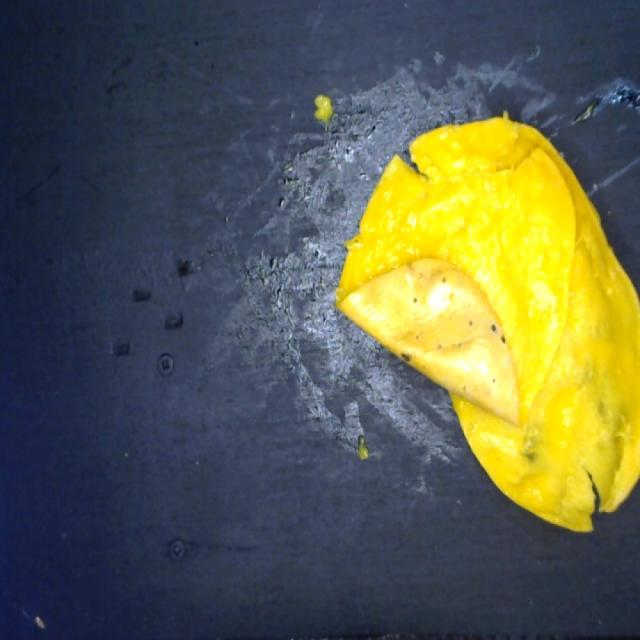biodegradable: (331, 114, 640, 543)
